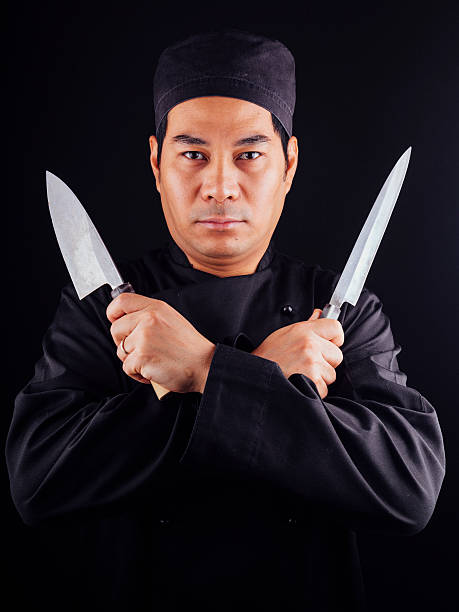knife: (316, 144, 415, 320), (41, 167, 136, 303)
